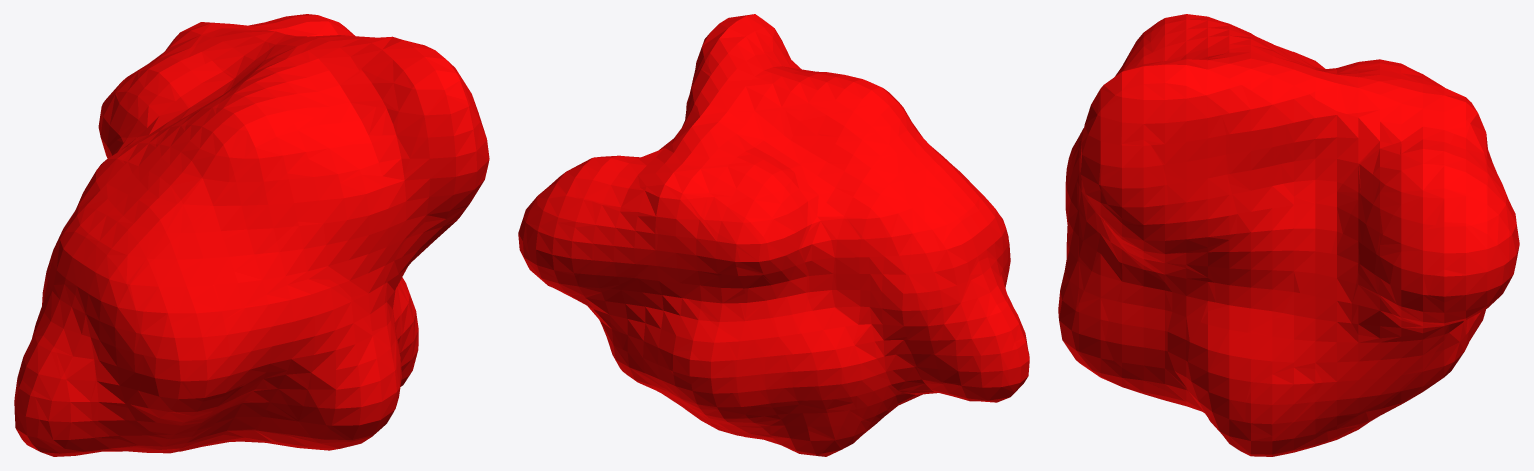
Rendered from rpsK_coarse.dae.
3 views of the same model, side by side, from view 1: azimuth 30°, elevation 25°; view 2: azimuth 150°, elevation 25°; view 3: azimuth 270°, elevation 25° (orthographic). The views are drawn at different scales.
Visible parts, largest first — view 1: rpsK; view 2: rpsK; view 3: rpsK.
Part boxes in pixels (bbox=[...]): rpsK: bbox=[14, 14, 489, 456]; rpsK: bbox=[518, 14, 1029, 456]; rpsK: bbox=[1058, 14, 1519, 456].
Bounding box in the file's own units: 45.12 × 36.91 × 37.58.
